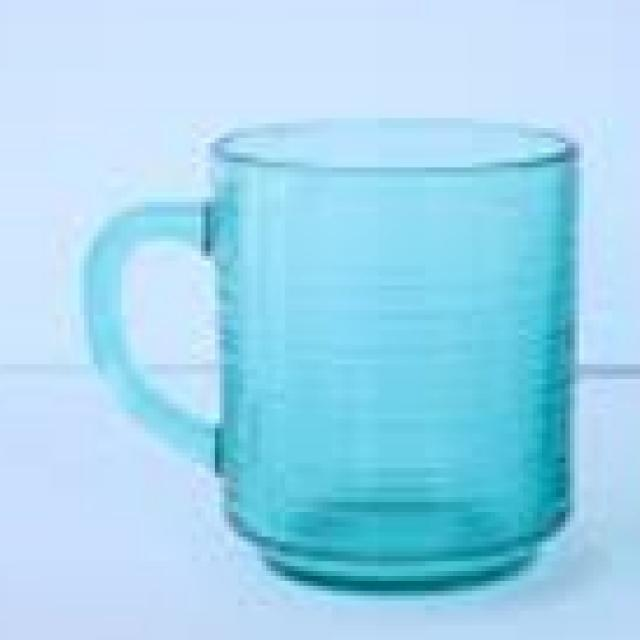taza: (80, 117, 582, 597)
